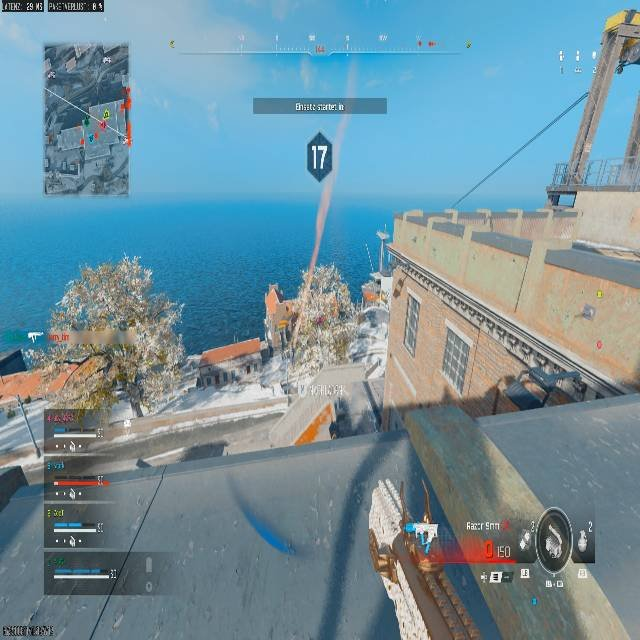player: (344, 273, 388, 386), (494, 358, 587, 410)
